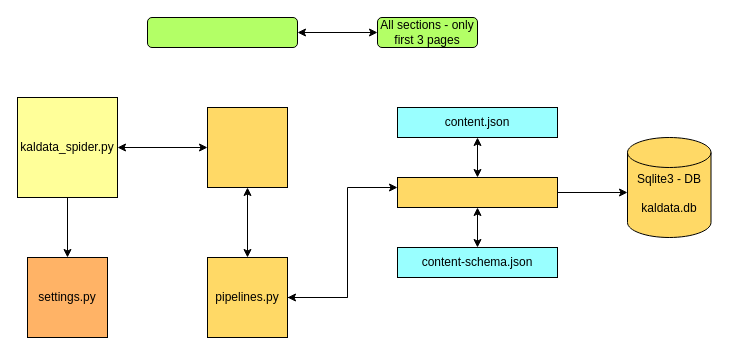
This 729x355 diagram has some shape labels left out. Here are the shapes that lost their labels. From the top down, the centre of each, then its label:
At point (222, 32): "www.kaldata.com".
At point (247, 147): "items.py".
At point (477, 192): "main.py".
